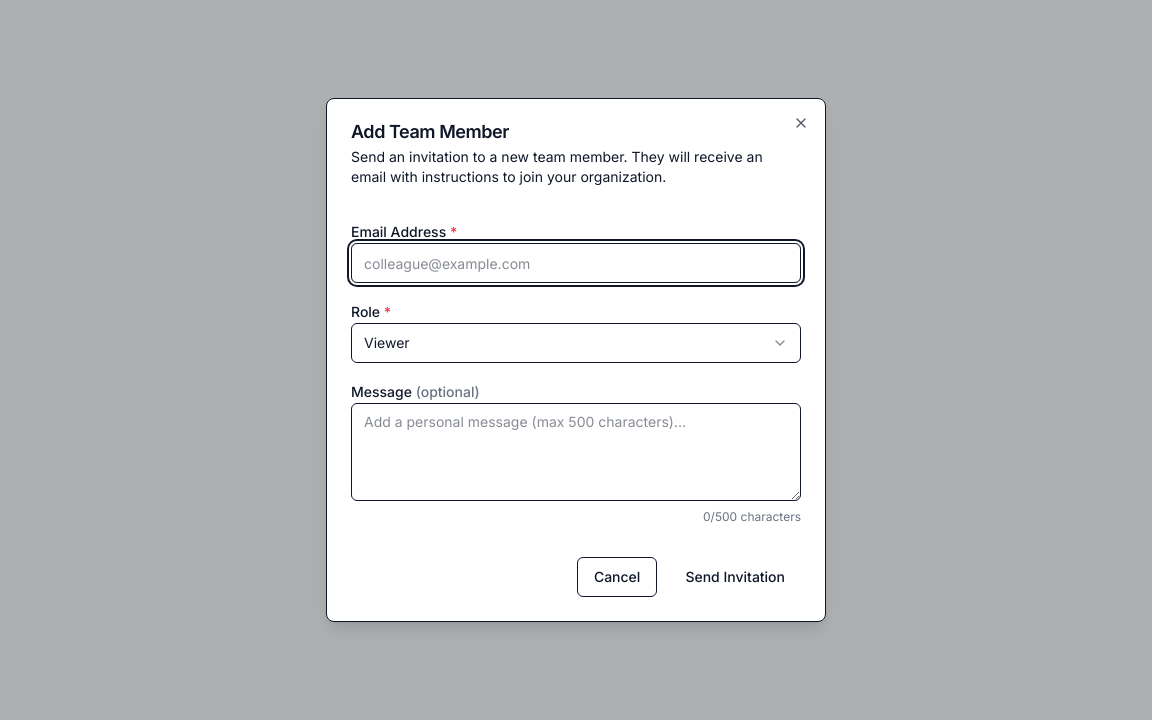
AddMemberDialog Component › Form Validation › should show error for empty email
The image size is (1152, 720).
Step 1. Click the button "Send Invitation" → x=735, y=577, box top-left (669, 557), bottom-right (801, 597)
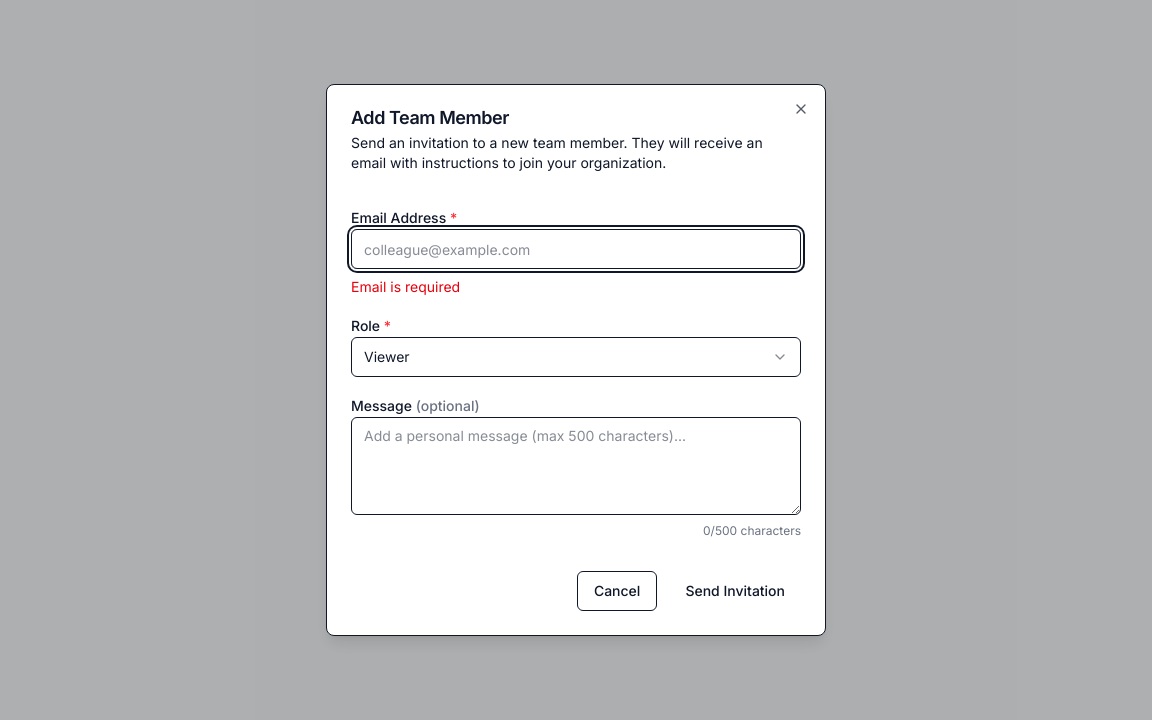
Expected: the text "Email is required" is shown, top-left (351, 278), bottom-right (460, 295)
